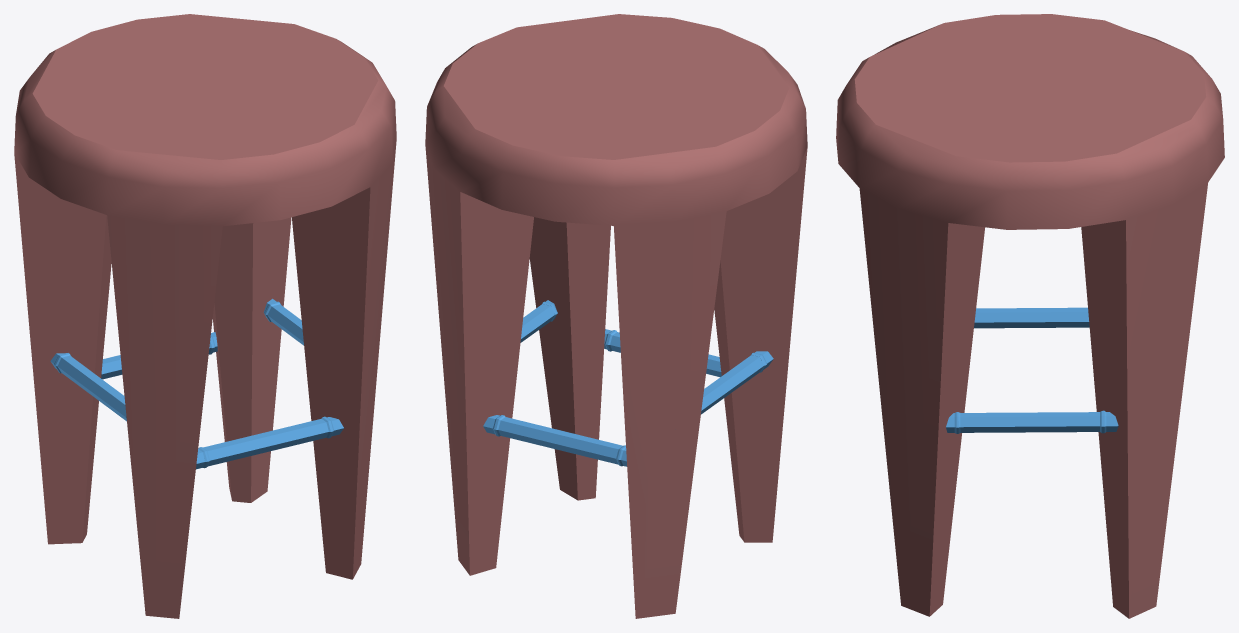
The model's file is barStoolRound.fbx.
The picture shows the model from 3 angles, left to right: view 1: azimuth 30°, elevation 25°; view 2: azimuth 150°, elevation 25°; view 3: azimuth 270°, elevation 25°; orthographic projection. The views are drawn at different scales.
Visible parts, largest first — view 1: pCylinder1, pCylinder6; view 2: pCylinder1, pCylinder6; view 3: pCylinder1, pCylinder6.
Boxes of the visible parts, <box> form: pCylinder1: <box>14,14,396,618</box>; pCylinder6: <box>50,298,343,469</box>; pCylinder1: <box>425,14,807,618</box>; pCylinder6: <box>483,300,773,466</box>; pCylinder1: <box>836,14,1224,618</box>; pCylinder6: <box>946,307,1118,433</box>.
Size of the model in its own units: 1.99 by 2.68 by 1.99.
